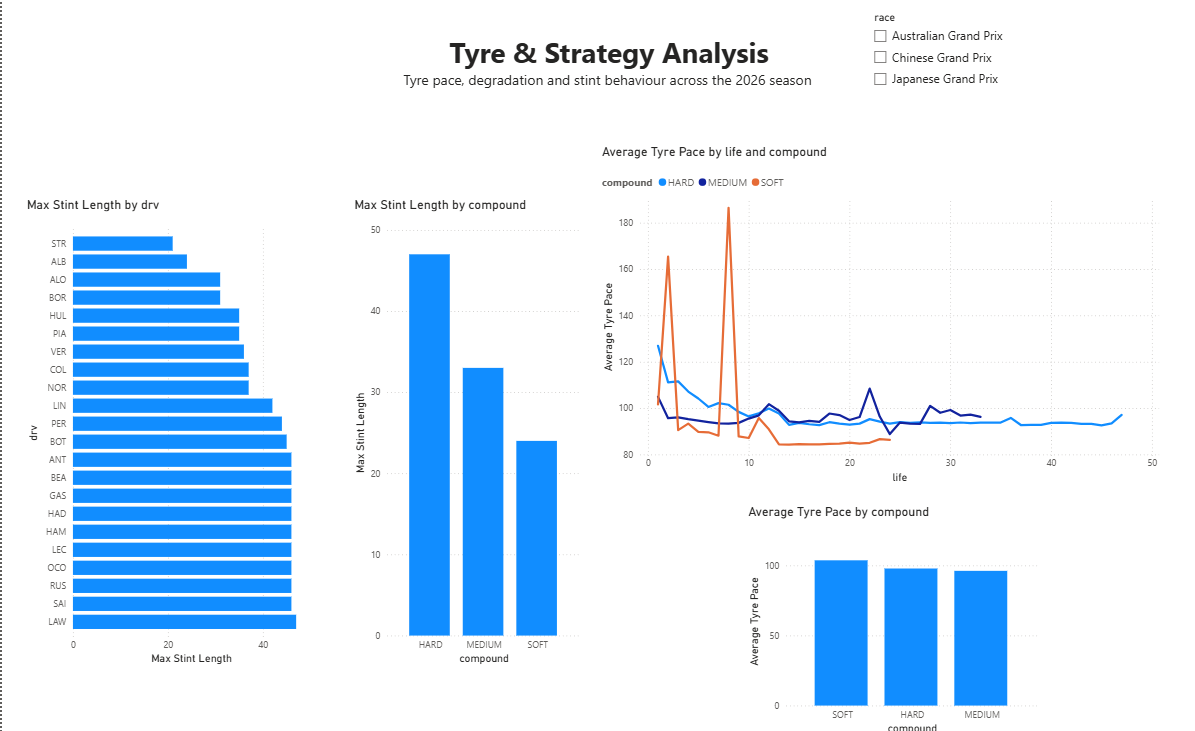

What the dashboard file says about the page in this screenshot:
{"tool":"powerbi","page":{"name":"Tyre and Strategy Analysis","canvas":[1600,1000],"ordinal":1},"visuals":[{"type":"clusteredColumnChart","fields":{"Category":["f1_2026_three_races.compound"],"Y":["f1_2026_three_races.Average Tyre Pace"]},"box":[995.3,687,398.8,313.3],"z":0},{"type":"slicer","fields":{"Values":["f1_2026_three_races.race"]},"box":[1156.2,20.1,238.4,150.6],"z":1000},{"type":"lineChart","fields":{"Category":["f1_2026_three_races.life"],"Y":["f1_2026_three_races.Average Tyre Pace"],"Series":["f1_2026_three_races.compound"]},"box":[799.3,204.4,757.4,459.1],"z":2000},{"type":"clusteredBarChart","fields":{"Category":["f1_2026_three_races.drv"],"Y":["f1_2026_three_races.Max Stint Length"]},"box":[28.5,274.8,397.1,631.7],"z":3000},{"type":"clusteredColumnChart","fields":{"Category":["f1_2026_three_races.compound"],"Y":["f1_2026_three_races.Max Stint Length"]},"box":[467.5,274.8,313.3,631.7],"z":4000},{"type":"textbox","box":[532.8,50.3,623.3,120.6],"z":4001}]}

Visuals, with their boxes in screenshot pixels (x1, y1, x2, y2), scaled from the page's 1600x1000 canvas onto the 1195x731 screenshot:
clusteredColumnChart - f1_2026_three_races.compound x f1_2026_three_races.Average Tyre Pace: region(743, 502, 1041, 730)
slicer - f1_2026_three_races.race: region(864, 15, 1042, 125)
lineChart - f1_2026_three_races.life x f1_2026_three_races.Average Tyre Pace: region(597, 149, 1163, 485)
clusteredBarChart - f1_2026_three_races.drv x f1_2026_three_races.Max Stint Length: region(21, 201, 318, 663)
clusteredColumnChart - f1_2026_three_races.compound x f1_2026_three_races.Max Stint Length: region(349, 201, 583, 663)
textbox: region(398, 37, 863, 125)
